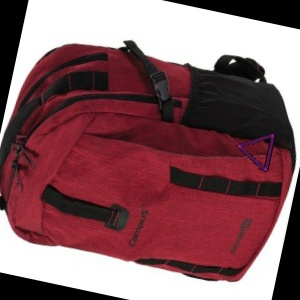triangle: (236, 128, 277, 176)
